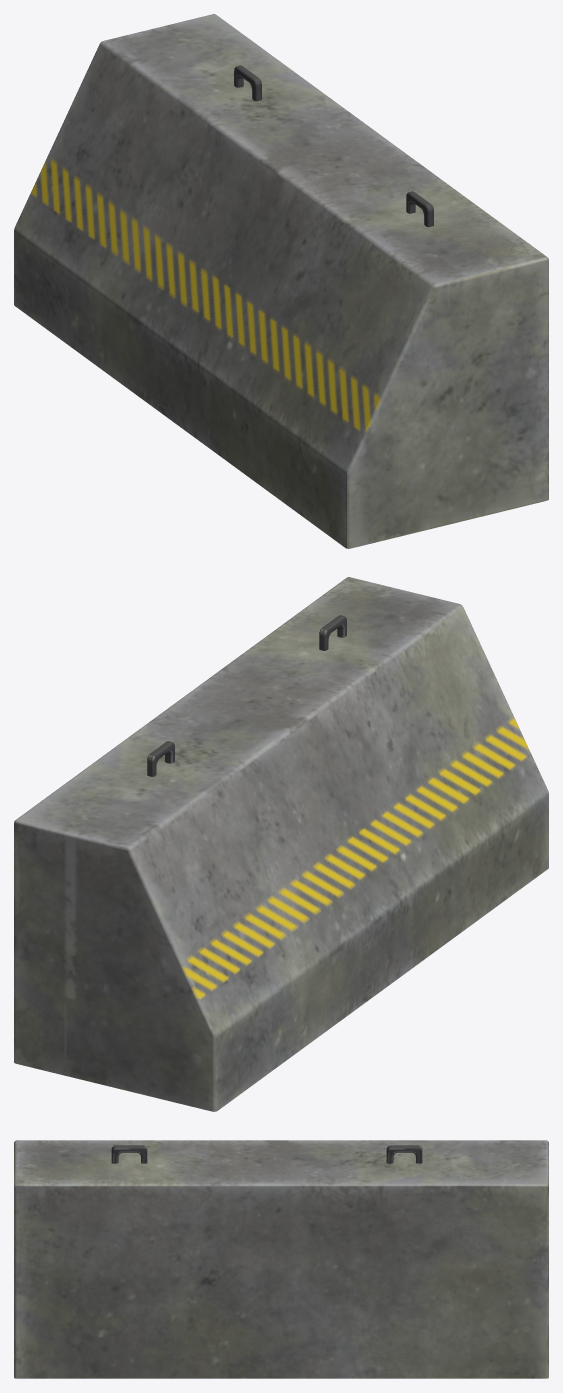
Rendered from SM_Concrete_Barrier.fbx.
3 renders of one model, top to bottom at view 1: azimuth 30°, elevation 25°; view 2: azimuth 150°, elevation 25°; view 3: azimuth 270°, elevation 25°, orthographic. The views are drawn at different scales.
Parts seen in each view (by area): view 1: SM_Concrete_Barrier_LOD0; view 2: SM_Concrete_Barrier_LOD0; view 3: SM_Concrete_Barrier_LOD0.
Boxes of the visible parts, x1=… form: SM_Concrete_Barrier_LOD0: x1=14, y1=14, x2=548, y2=548; SM_Concrete_Barrier_LOD0: x1=14, y1=577, x2=548, y2=1111; SM_Concrete_Barrier_LOD0: x1=14, y1=1140, x2=548, y2=1378.
Size of the model in its own units: 70 by 200 by 86.64.
1 material, 1 textured.
